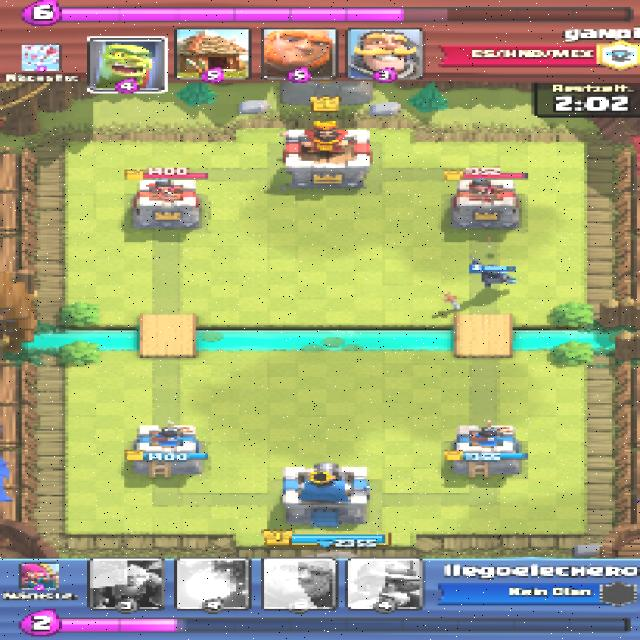Player-MiniPEKKA: (468, 257, 520, 286)
